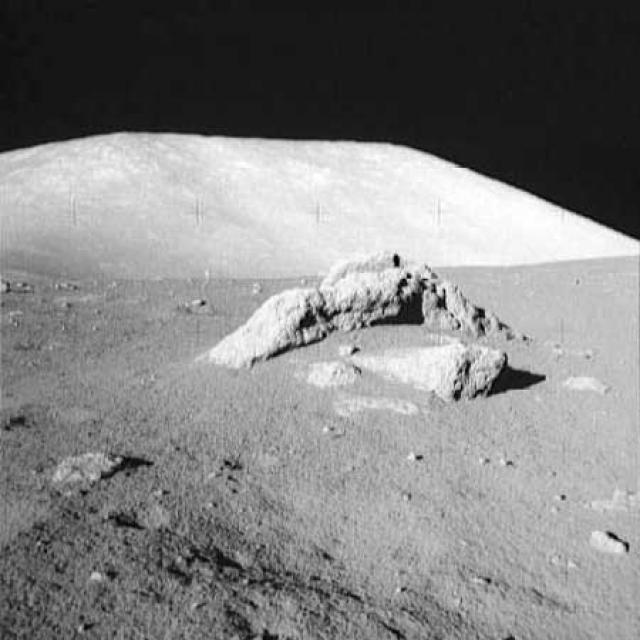rock: (206, 241, 523, 352), (381, 339, 504, 403), (51, 437, 135, 498), (304, 350, 365, 396), (559, 369, 623, 407), (586, 518, 632, 565)
